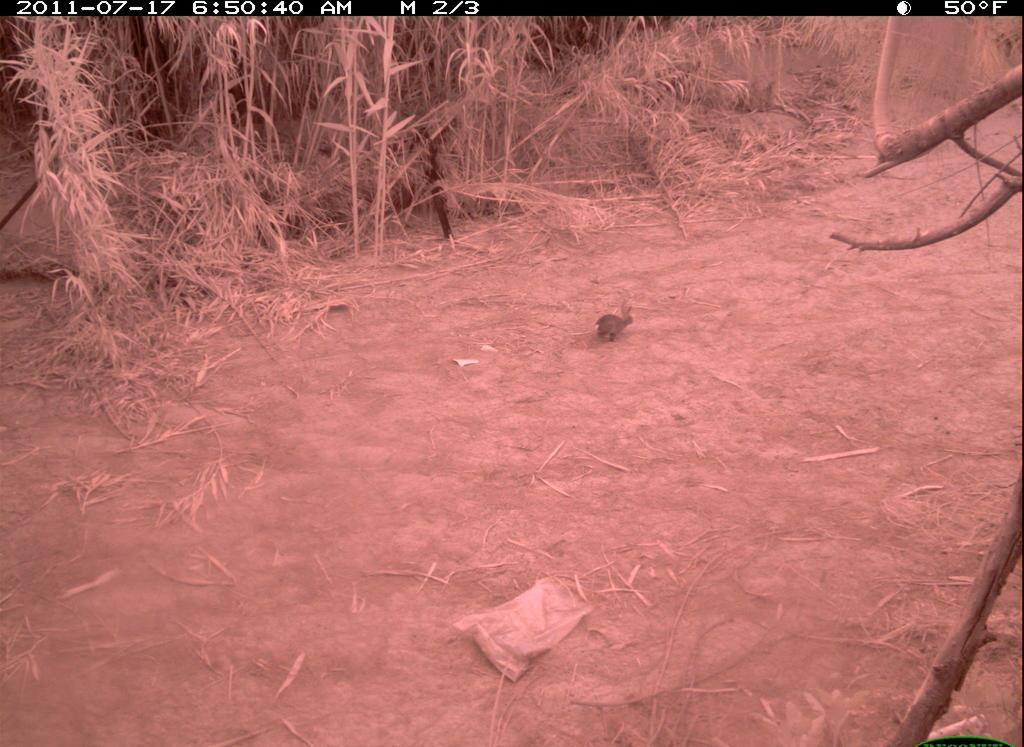rabbit: (575, 297, 652, 351)
